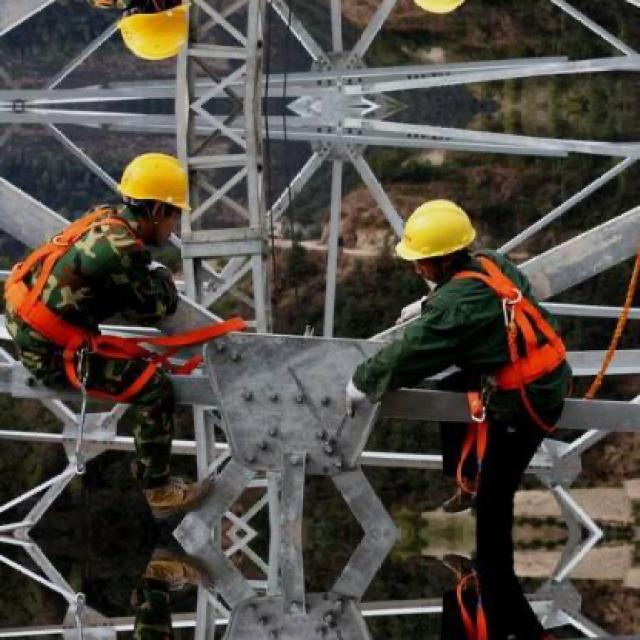helmet: (396, 193, 486, 287), (116, 145, 196, 244), (115, 0, 196, 69), (394, 0, 486, 22)
